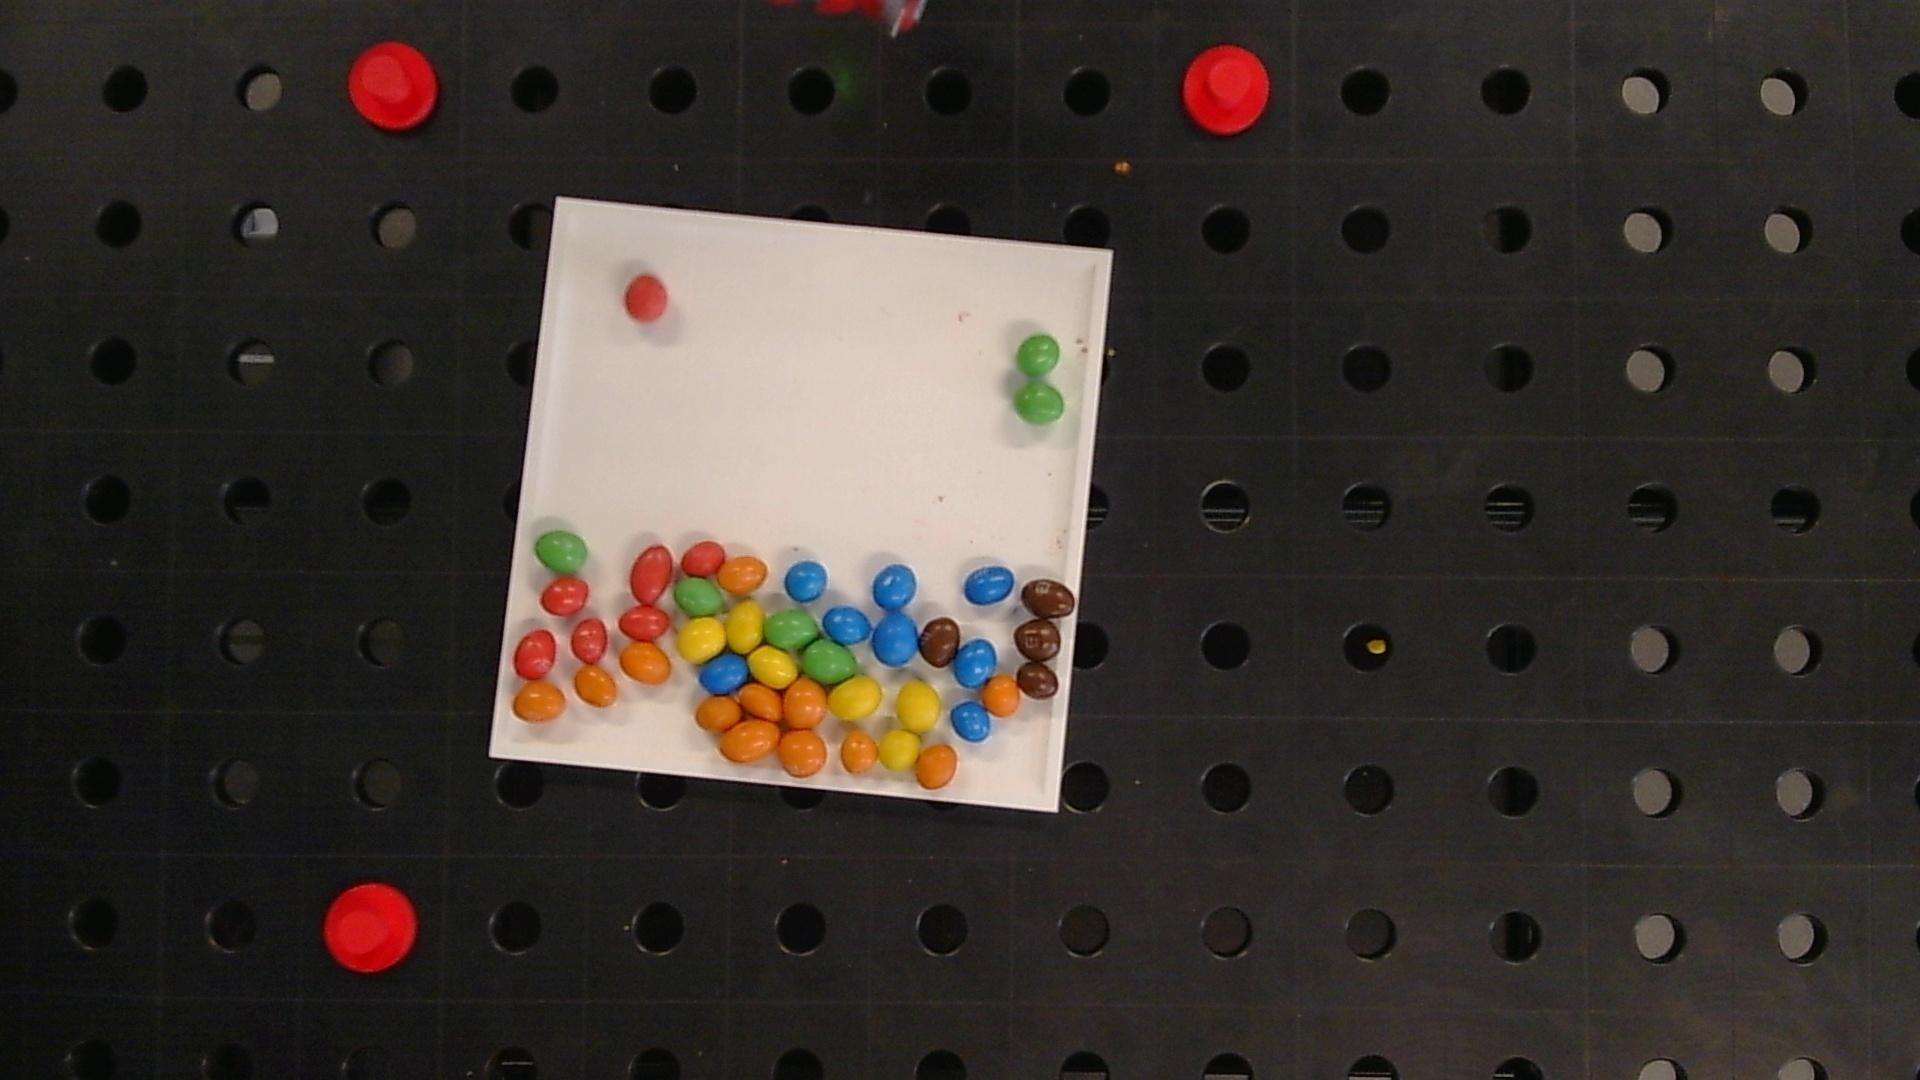blue: (872, 615, 919, 666), (953, 640, 997, 688), (873, 564, 916, 611), (964, 566, 1014, 605), (700, 653, 748, 694), (823, 605, 872, 644), (785, 560, 827, 601), (951, 702, 990, 741)
brown: (1022, 578, 1076, 617), (918, 617, 960, 666), (1014, 620, 1060, 661), (1017, 662, 1059, 699)
green: (802, 638, 857, 683), (534, 530, 588, 574), (1014, 382, 1065, 425), (764, 611, 819, 649), (1017, 334, 1062, 377), (675, 576, 723, 615)
orange: (720, 719, 781, 762), (512, 682, 567, 721), (778, 731, 827, 775), (618, 642, 671, 683), (783, 679, 825, 727), (717, 555, 767, 593), (916, 742, 956, 787), (575, 666, 616, 707), (840, 733, 878, 774), (738, 684, 782, 720), (696, 696, 740, 732), (982, 676, 1021, 716)
red: (629, 543, 673, 604), (513, 629, 556, 679), (624, 274, 669, 322), (541, 578, 588, 616), (618, 607, 670, 641), (571, 618, 609, 663), (680, 539, 724, 575)
yellow: (831, 676, 882, 721), (895, 682, 940, 732), (678, 617, 725, 663), (750, 647, 799, 686), (727, 601, 764, 651), (878, 729, 920, 769)
